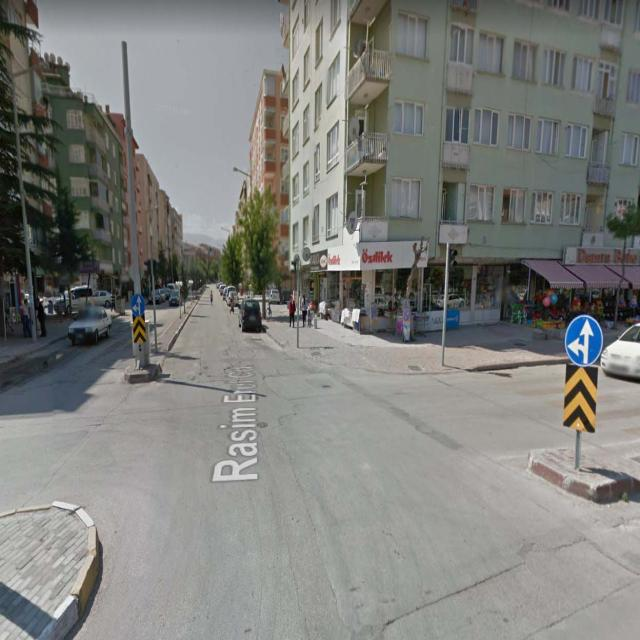ilerisol: (565, 316, 604, 369), (130, 292, 146, 314)
